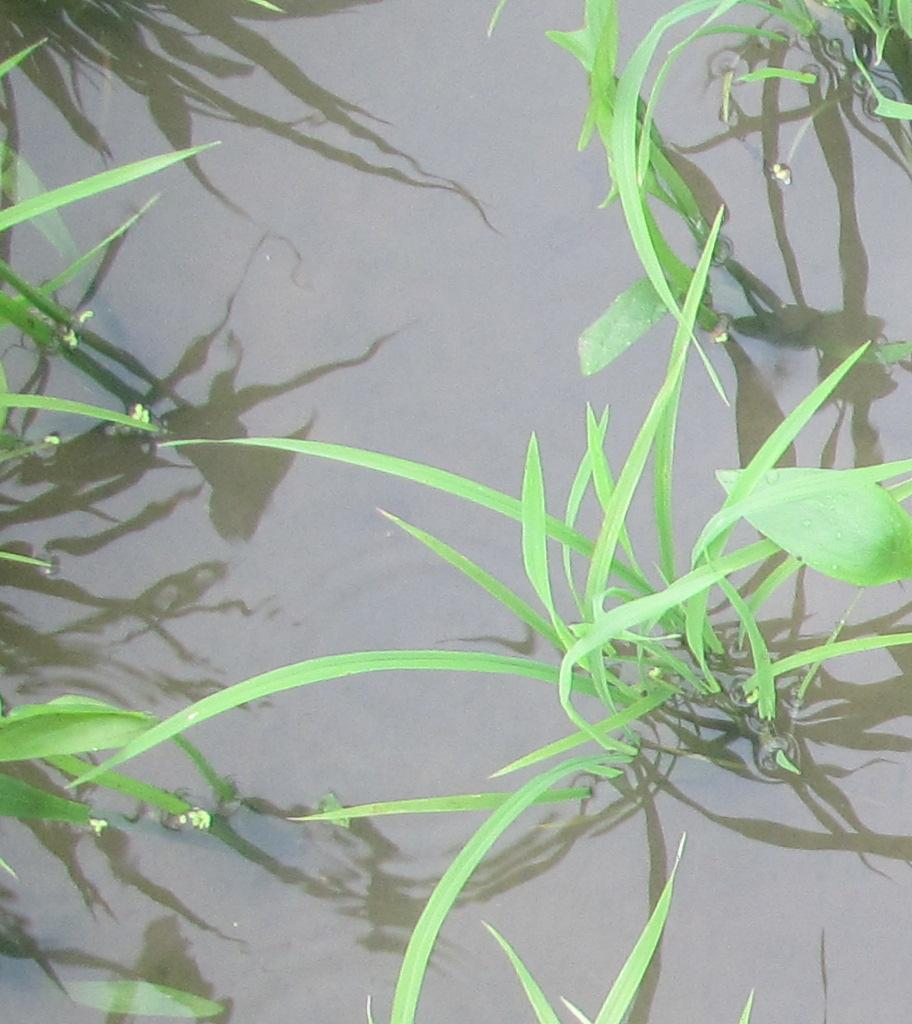Weed: (705, 457, 910, 599), (7, 697, 158, 789)
